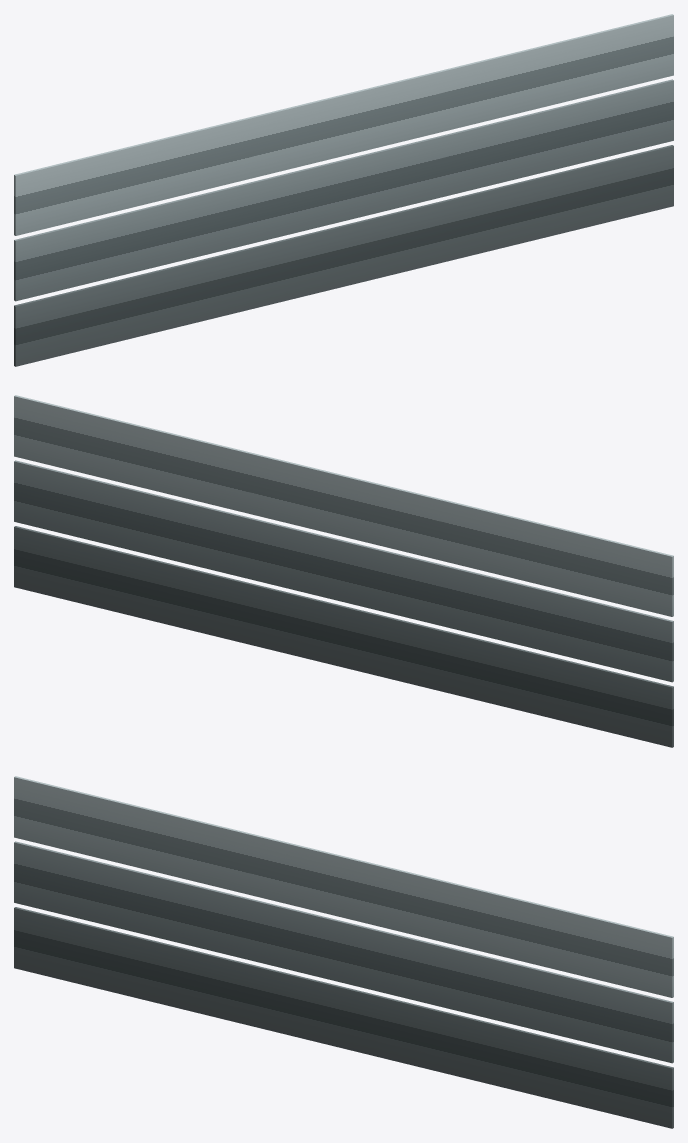
File: prop_barrier_4M.FBX
3 views of the same model, one above another, from view 1: azimuth 30°, elevation 25°; view 2: azimuth 150°, elevation 25°; view 3: azimuth 330°, elevation 25° (orthographic).
Visible parts, largest first — view 1: prop_barrier_4M; view 2: prop_barrier_4M; view 3: prop_barrier_4M.
Boxes of the visible parts, <box> form: prop_barrier_4M: <box>14,14,673,366</box>; prop_barrier_4M: <box>14,395,673,747</box>; prop_barrier_4M: <box>14,776,673,1128</box>.
Size of the model in its own units: 157 by 43.66 by 0.6246.
1 material, 1 textured.
